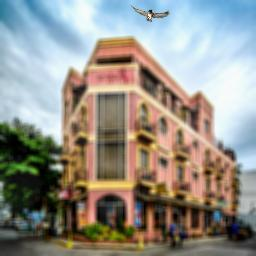Swallow: (130, 5, 170, 22)
